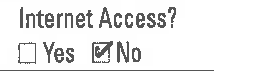NO: (16, 40, 39, 66)
YES: (89, 39, 113, 64)
